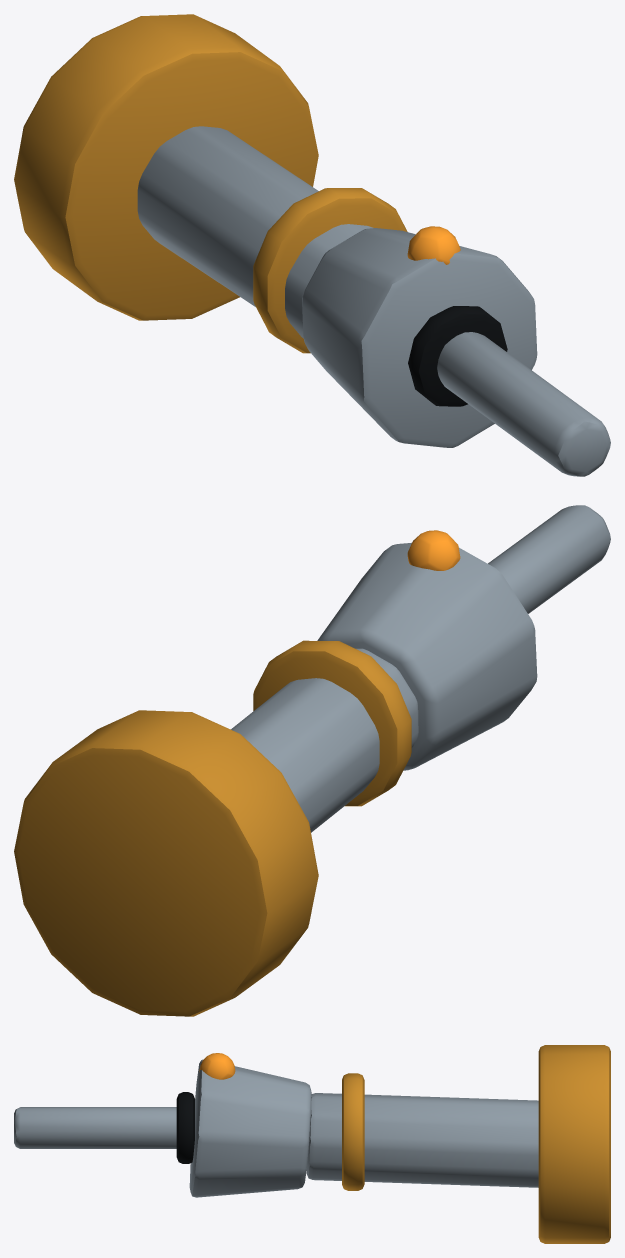
The model's file is FlameA2.obj.
The picture shows the model from 3 angles, top to bottom: view 1: azimuth 30°, elevation 25°; view 2: azimuth 150°, elevation 25°; view 3: azimuth 270°, elevation 25°; orthographic projection. The views are drawn at different scales.
Visible parts, largest first — view 1: FlameA2; view 2: FlameA2; view 3: FlameA2.
Boxes of the visible parts, box(x1,y1,x2,y2) form: FlameA2: box(14, 14, 610, 476); FlameA2: box(14, 505, 610, 1016); FlameA2: box(14, 1045, 610, 1243).
Bounding box in the file's own units: 0.44 × 0.4401 × 1.32.
